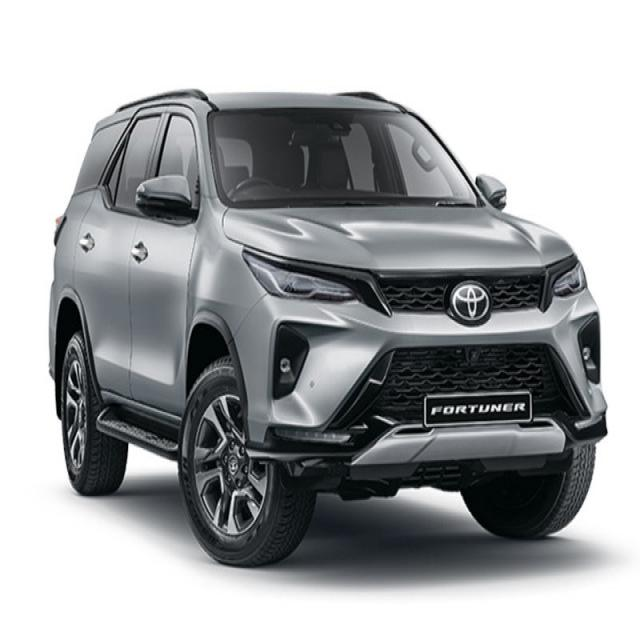light_vehicle: (47, 89, 608, 568)
